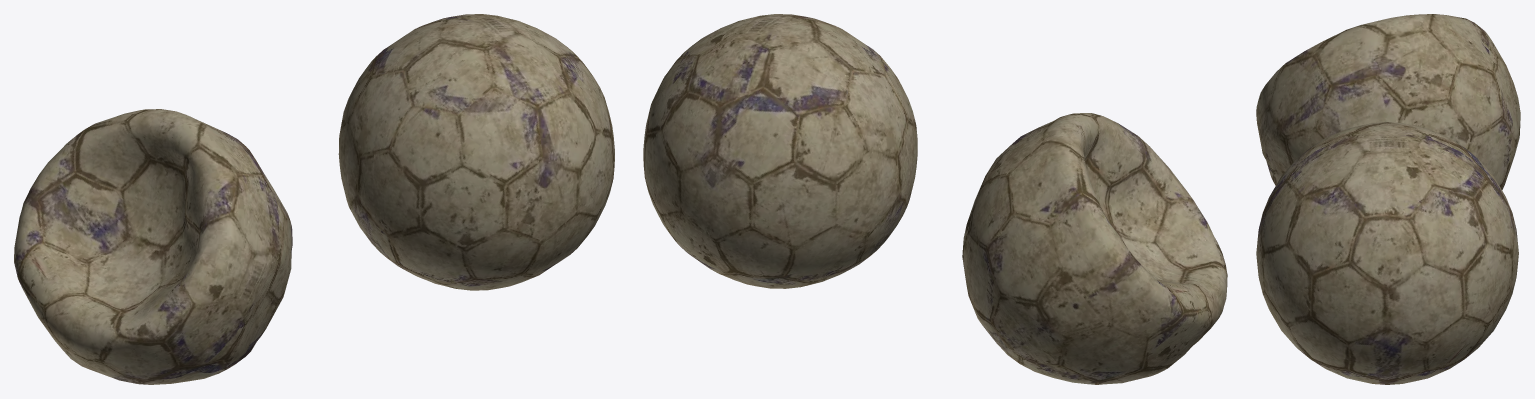
File: football.glb
3 renders of one model, left to right at view 1: azimuth 30°, elevation 25°; view 2: azimuth 150°, elevation 25°; view 3: azimuth 270°, elevation 25°, orthographic. The views are drawn at different scales.
Visible parts, largest first — view 1: football_deflated; view 2: football_deflated; view 3: football_deflated.
Boxes of the visible parts, x1,y1,x2,y2 form: football_deflated: (14, 14, 614, 384); football_deflated: (643, 14, 1227, 384); football_deflated: (1256, 14, 1520, 384).
Size of the model in its own units: 0.5089 by 0.2219 by 0.2222.
Materials: 1 (1 with a texture image).
